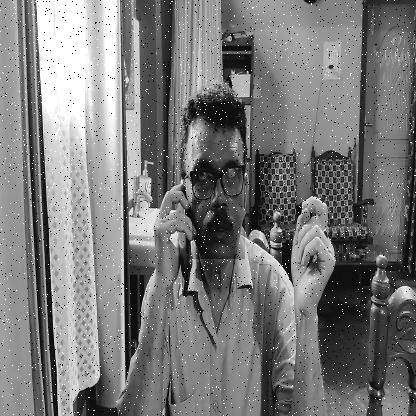Normal: (192, 102, 245, 259)
